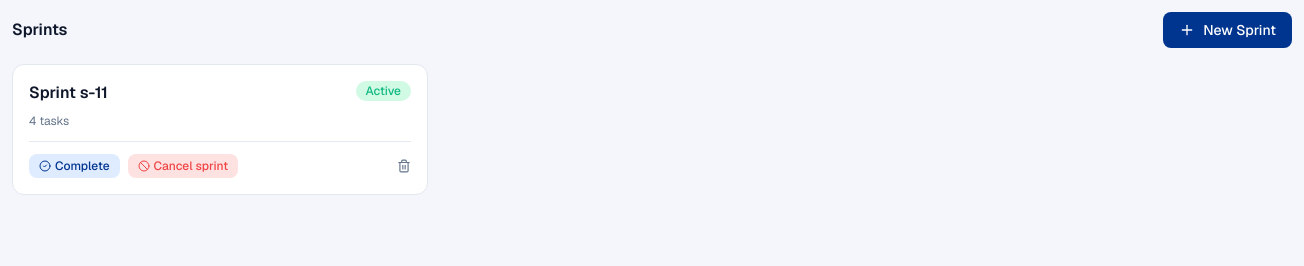
Scenario: R39/R37 — the backlog sweep is reported, not merely done › a sprint that finished everything says so without inventing a count
Step 1. Click the button with test id "sprint-complete-s-11" → (74, 166), box [29,154,120,178]
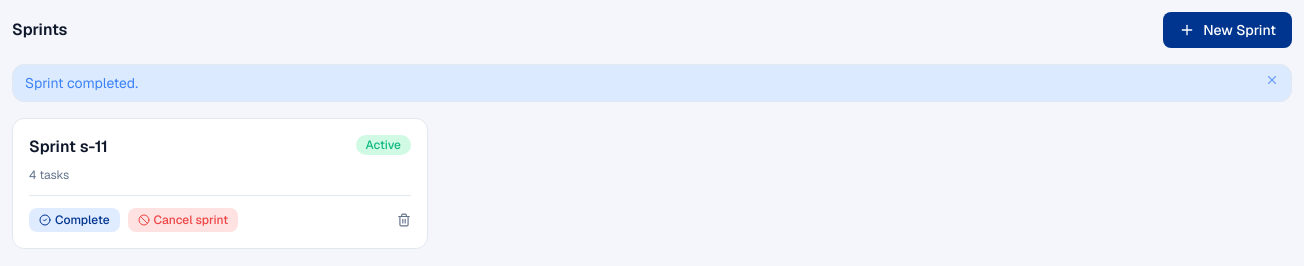
expect the message with test id "sprint-close-notice" does not show "backlog": met, box [12,64,1292,102]
expect the message with test id "sprint-close-notice" reads "Sprint completed.": met, box [25,74,138,92]
